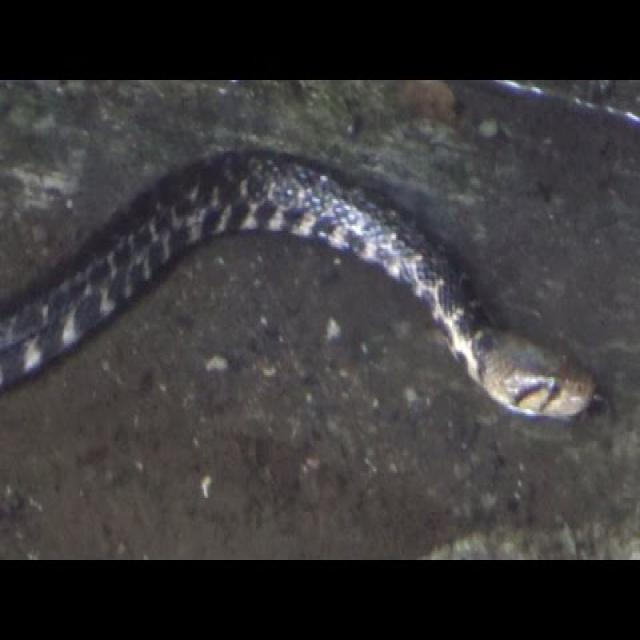Snake: (0, 144, 607, 430)
